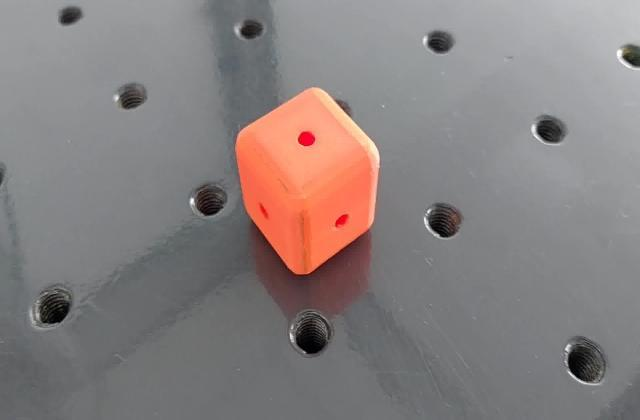cube: (230, 84, 383, 279)
